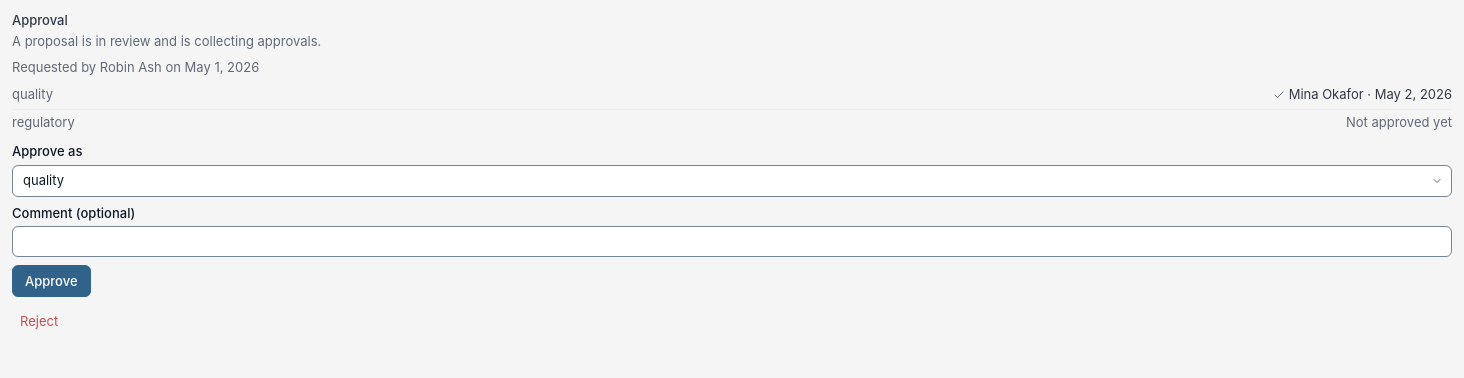
governed sign-off section › keeps the typed comment and names a stale-manifest refusal
Expected: the list item with test id "governance-vote-quality" is shown, [12,86,1452,102]
Type "checked pages 3-7" into the field with test id "governance-comment" at [732, 242], box [12,226,1452,257]
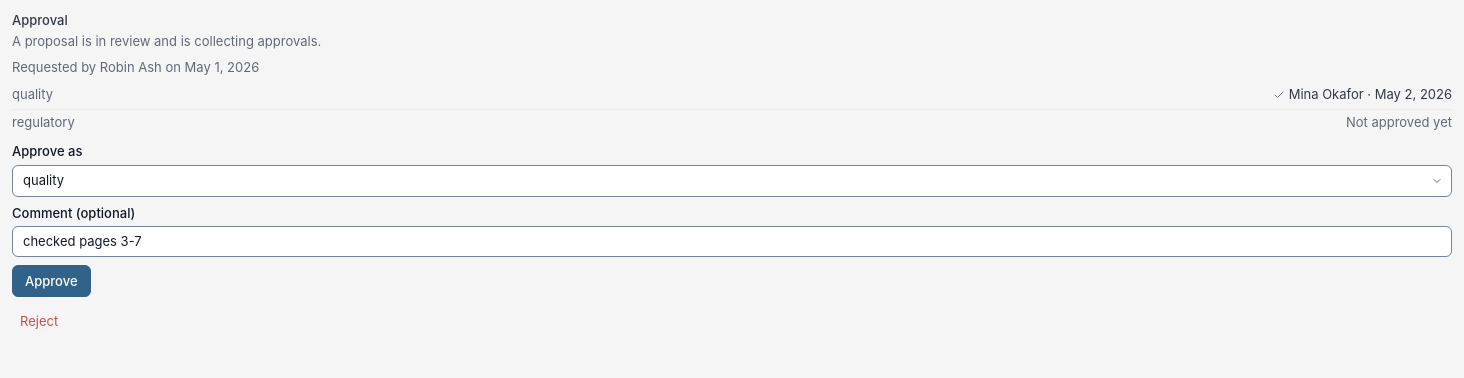
Click the button with test id "governance-approve-btn" at [51, 281], box [12,265,90,297]
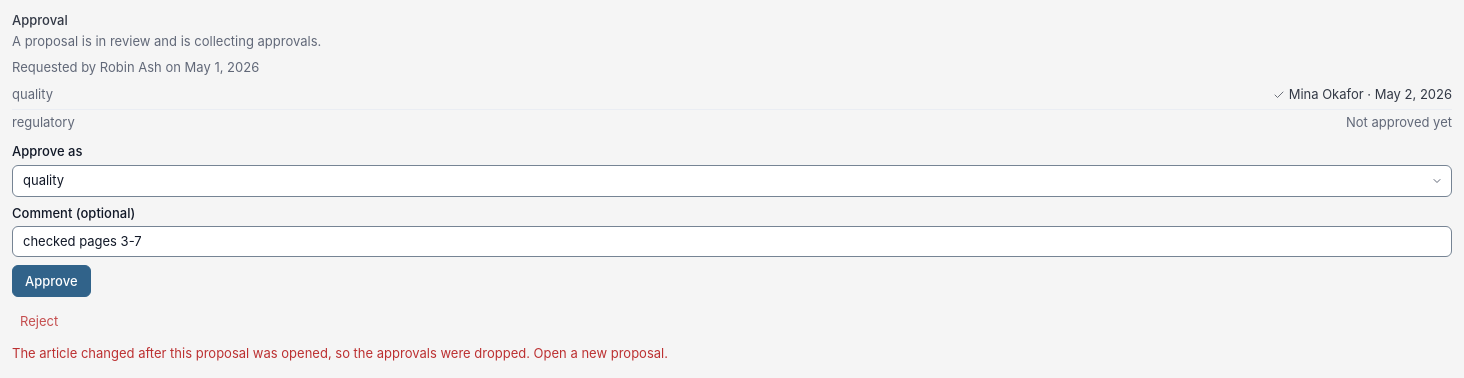
Result: the text with test id "governance-error" shows "changed after this proposal was opened" at [12,345,668,361]
